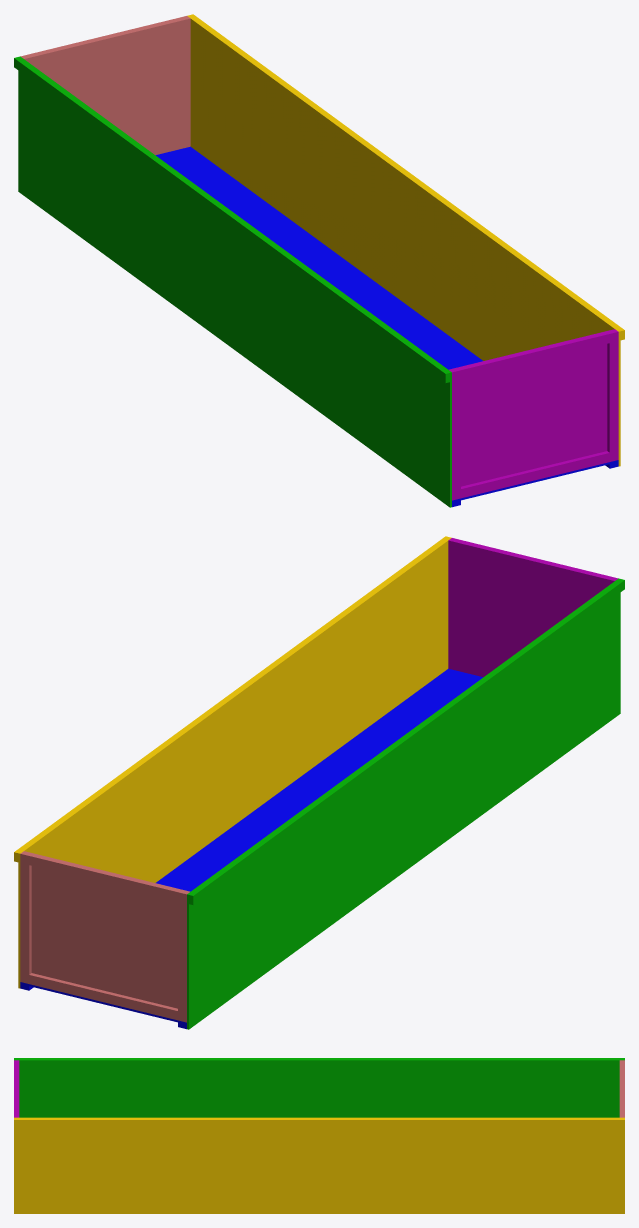
Rendered from result.glb.
3 views of the same model, one above another, from view 1: azimuth 30°, elevation 25°; view 2: azimuth 150°, elevation 25°; view 3: azimuth 270°, elevation 25° (orthographic). The views are drawn at different scales.
Parts seen in each view (by area): view 1: 9323543f-569b-4df4-9144-b1c3d167d5f6__Box_6, b89bc471-a966-4430-89f0-145108eff1f8__undefined, 6761570d-2ead-4071-981f-049b6bf72866__Box_3, b25d3402-717e-41e6-91a1-add1c9932366__undefined, 3e928812-4c0e-4d19-9eba-135386c44f06__Box, 221ecf76-6913-4a83-928c-3a7345a6f891__Box_7, 51366528-5cd4-4828-ad13-63ee99288925__undefined, 36636358-3c7b-45d2-bb92-3fe092d2e2a4__undefined, 7cd94e65-be84-48e6-944e-8a819495928d__Box_5, 69f48783-fedf-44ea-82e4-71d5fbd83387__undefined, f30ef92b-a108-40b9-9361-17ba9ae6bfef__Box_4; view 2: 9323543f-569b-4df4-9144-b1c3d167d5f6__Box_6, b89bc471-a966-4430-89f0-145108eff1f8__undefined, b25d3402-717e-41e6-91a1-add1c9932366__undefined, 6761570d-2ead-4071-981f-049b6bf72866__Box_3, 3e928812-4c0e-4d19-9eba-135386c44f06__Box, 221ecf76-6913-4a83-928c-3a7345a6f891__Box_7, 51366528-5cd4-4828-ad13-63ee99288925__undefined, 76885243-03a7-42b0-bd35-37a8d22cc9c5__undefined, 7d2221ef-35c0-440f-93d0-6dfb86074b57__undefined, 97909c68-c4cb-4ff3-b804-1c228870a6c1__undefined, e1764802-92df-42cc-b994-6e2d9fc89fe1__undefined; view 3: b89bc471-a966-4430-89f0-145108eff1f8__undefined, 9323543f-569b-4df4-9144-b1c3d167d5f6__Box_6, 51366528-5cd4-4828-ad13-63ee99288925__undefined, 221ecf76-6913-4a83-928c-3a7345a6f891__Box_7.
Part boxes in pixels (left/top/right/bottom): 9323543f-569b-4df4-9144-b1c3d167d5f6__Box_6: left=18, top=56, right=451, bottom=507; b89bc471-a966-4430-89f0-145108eff1f8__undefined: left=187, top=15, right=620, bottom=466; 6761570d-2ead-4071-981f-049b6bf72866__Box_3: left=449, top=329, right=615, bottom=486; b25d3402-717e-41e6-91a1-add1c9932366__undefined: left=23, top=17, right=190, bottom=155; 3e928812-4c0e-4d19-9eba-135386c44f06__Box: left=156, top=146, right=618, bottom=502; 221ecf76-6913-4a83-928c-3a7345a6f891__Box_7: left=14, top=57, right=449, bottom=382; 51366528-5cd4-4828-ad13-63ee99288925__undefined: left=189, top=14, right=624, bottom=340; 36636358-3c7b-45d2-bb92-3fe092d2e2a4__undefined: left=458, top=332, right=609, bottom=379; 7cd94e65-be84-48e6-944e-8a819495928d__Box_5: left=461, top=451, right=609, bottom=498; 69f48783-fedf-44ea-82e4-71d5fbd83387__undefined: left=607, top=330, right=618, bottom=461; f30ef92b-a108-40b9-9361-17ba9ae6bfef__Box_4: left=450, top=368, right=460, bottom=500; 9323543f-569b-4df4-9144-b1c3d167d5f6__Box_6: left=187, top=578, right=620, bottom=1029; b89bc471-a966-4430-89f0-145108eff1f8__undefined: left=18, top=537, right=451, bottom=988; b25d3402-717e-41e6-91a1-add1c9932366__undefined: left=23, top=851, right=189, bottom=1008; 6761570d-2ead-4071-981f-049b6bf72866__Box_3: left=448, top=539, right=615, bottom=677; 3e928812-4c0e-4d19-9eba-135386c44f06__Box: left=20, top=668, right=482, bottom=1024; 221ecf76-6913-4a83-928c-3a7345a6f891__Box_7: left=189, top=579, right=624, bottom=904; 51366528-5cd4-4828-ad13-63ee99288925__undefined: left=14, top=536, right=449, bottom=862; 76885243-03a7-42b0-bd35-37a8d22cc9c5__undefined: left=29, top=854, right=180, bottom=901; 7d2221ef-35c0-440f-93d0-6dfb86074b57__undefined: left=29, top=973, right=177, bottom=1020; 97909c68-c4cb-4ff3-b804-1c228870a6c1__undefined: left=20, top=852, right=31, bottom=983; e1764802-92df-42cc-b994-6e2d9fc89fe1__undefined: left=178, top=890, right=188, bottom=1022; b89bc471-a966-4430-89f0-145108eff1f8__undefined: left=14, top=1117, right=624, bottom=1213; 9323543f-569b-4df4-9144-b1c3d167d5f6__Box_6: left=14, top=1059, right=624, bottom=1117; 51366528-5cd4-4828-ad13-63ee99288925__undefined: left=14, top=1118, right=624, bottom=1126; 221ecf76-6913-4a83-928c-3a7345a6f891__Box_7: left=14, top=1058, right=624, bottom=1059.
Bounding box in the file's own units: 732 × 526 × 3052.
